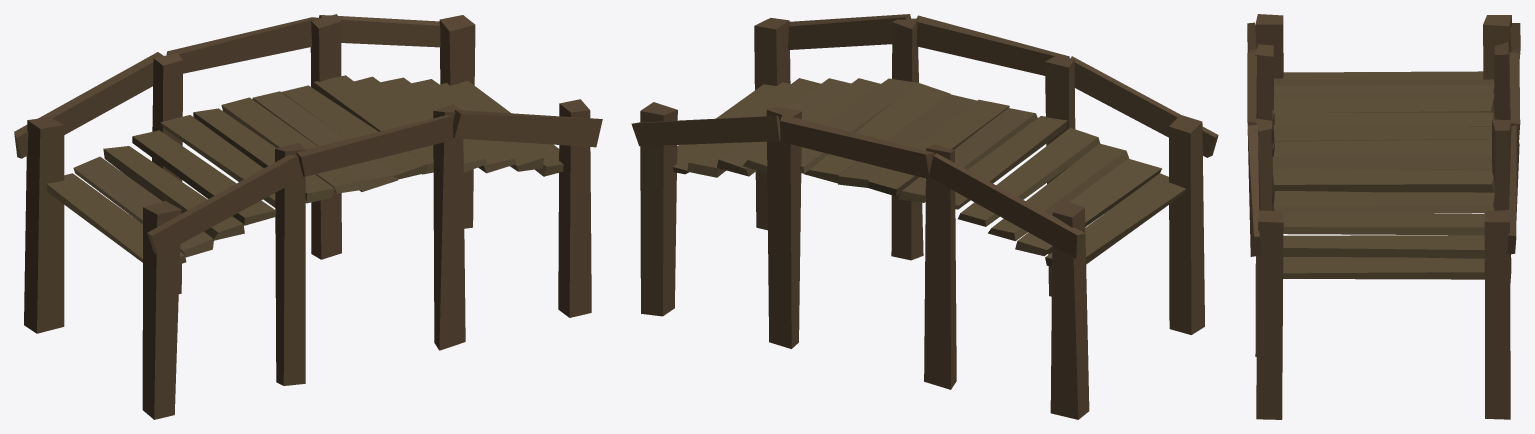
File: enchantedforest_bridge_wood.fbx
3 views of the same model, side by side, from view 1: azimuth 30°, elevation 25°; view 2: azimuth 150°, elevation 25°; view 3: azimuth 270°, elevation 25° (orthographic). The views are drawn at different scales.
Visible parts, largest first — view 1: Cube.033; view 2: Cube.033; view 3: Cube.033.
Part boxes in pixels (x1=…): Cube.033: x1=14, y1=14, x2=602, y2=419; Cube.033: x1=631, y1=14, x2=1218, y2=419; Cube.033: x1=1247, y1=14, x2=1520, y2=419.
Bounding box in the file's own units: 5.58 × 2.79 × 2.97.
